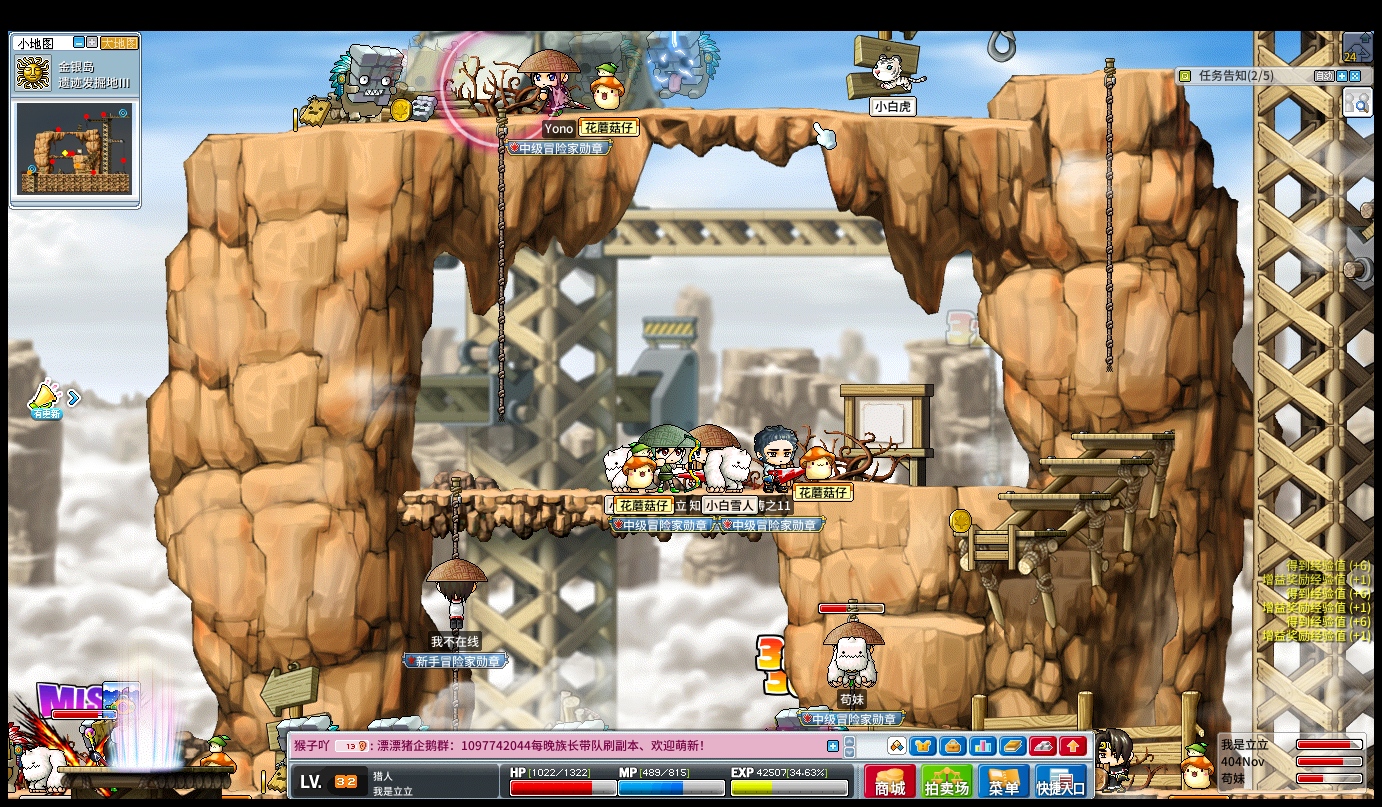floor: (187, 103, 1046, 138), (398, 488, 783, 499), (1007, 64, 1177, 78), (880, 613, 985, 634), (877, 481, 1036, 491), (1073, 429, 1176, 441), (1032, 456, 1149, 464), (950, 528, 1065, 536), (996, 492, 1111, 500)
monster: (329, 42, 401, 123), (664, 29, 722, 107)
rope: (1102, 52, 1116, 386), (496, 109, 506, 424), (1103, 56, 1115, 292), (447, 477, 461, 558)
